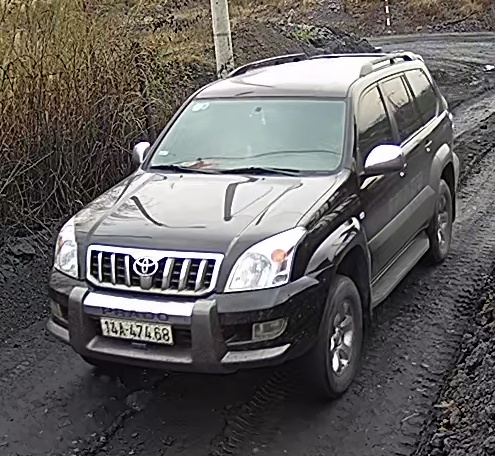vehicle plate: (93, 314, 176, 343)
